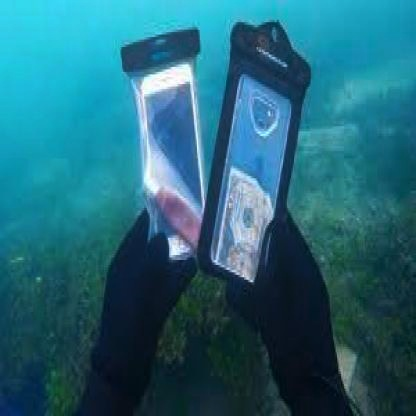cellphone: (219, 77, 289, 287), (140, 67, 205, 267)
